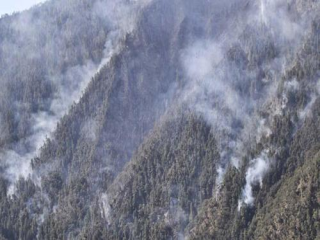smoke: (4, 23, 128, 199), (199, 76, 304, 208)
